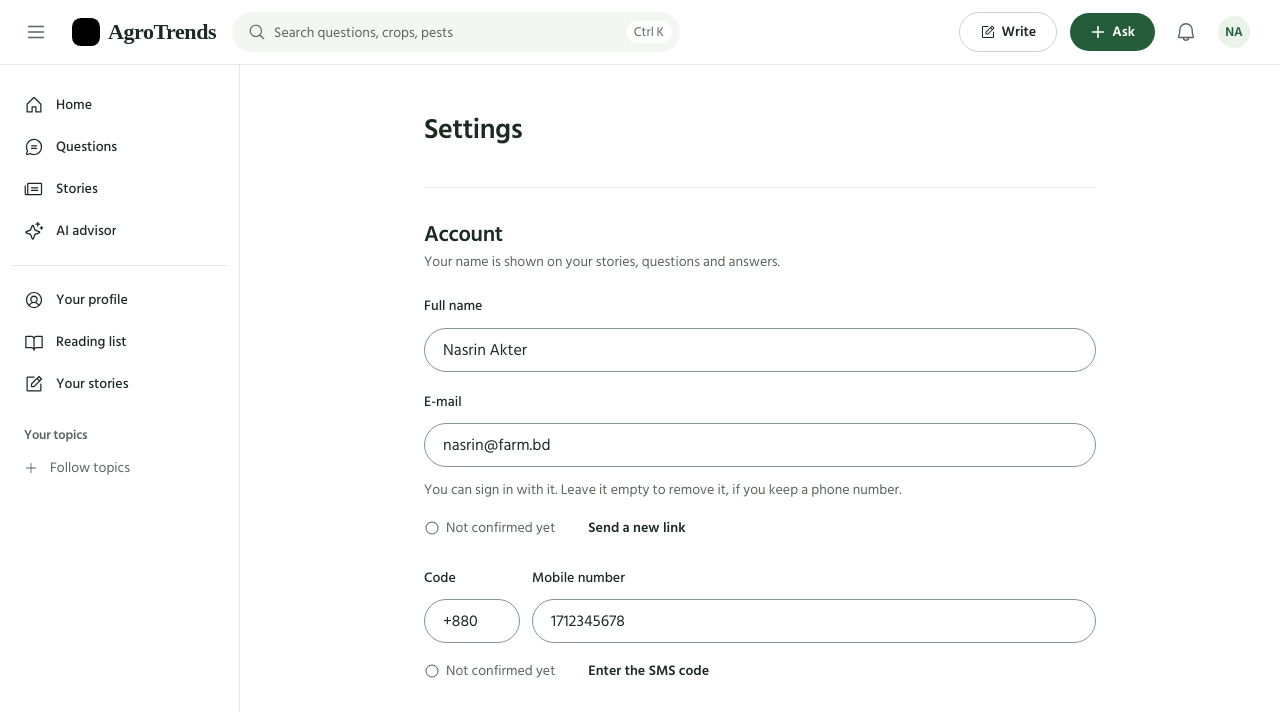
a taken e-mail shows the server message
Expected: the heading "Settings" is shown, 424,107 -> 522,152
Replace the text in the field labelled "E-mail" with "karim@farm.bd": (760, 445) 424,423 -> 1096,467
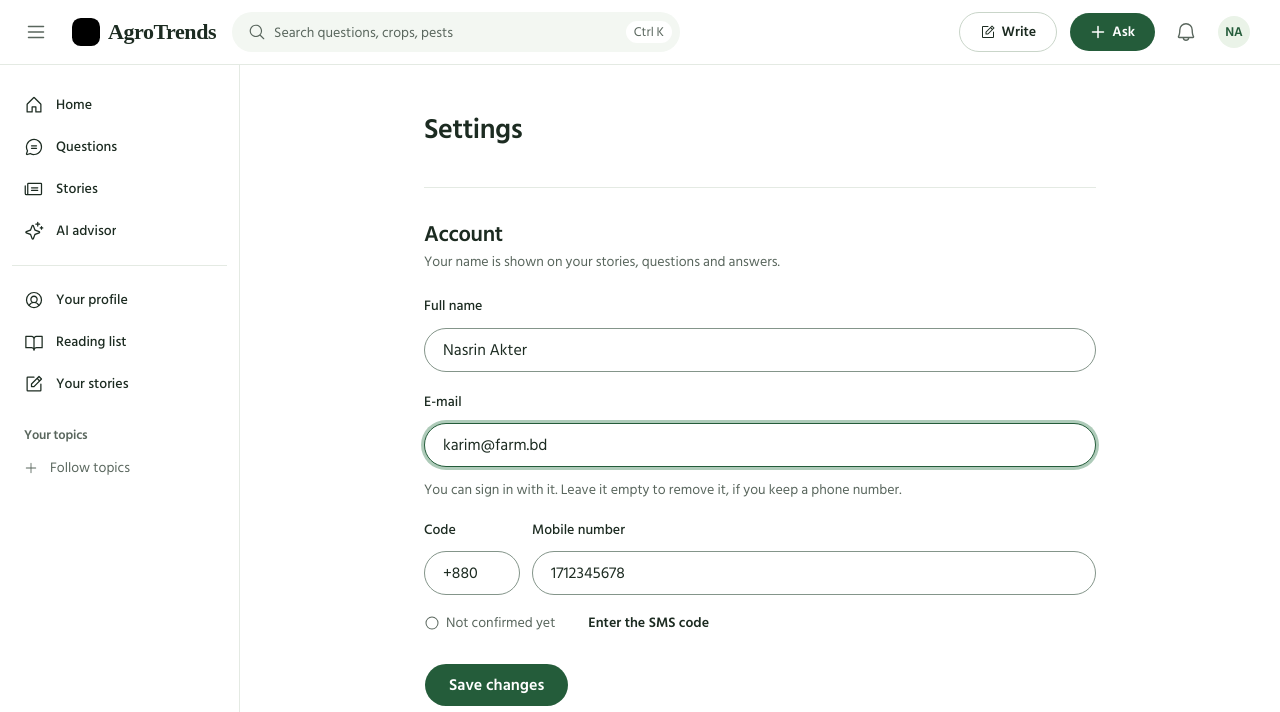
Click the button "Save changes": (497, 685) 424,663 -> 569,707
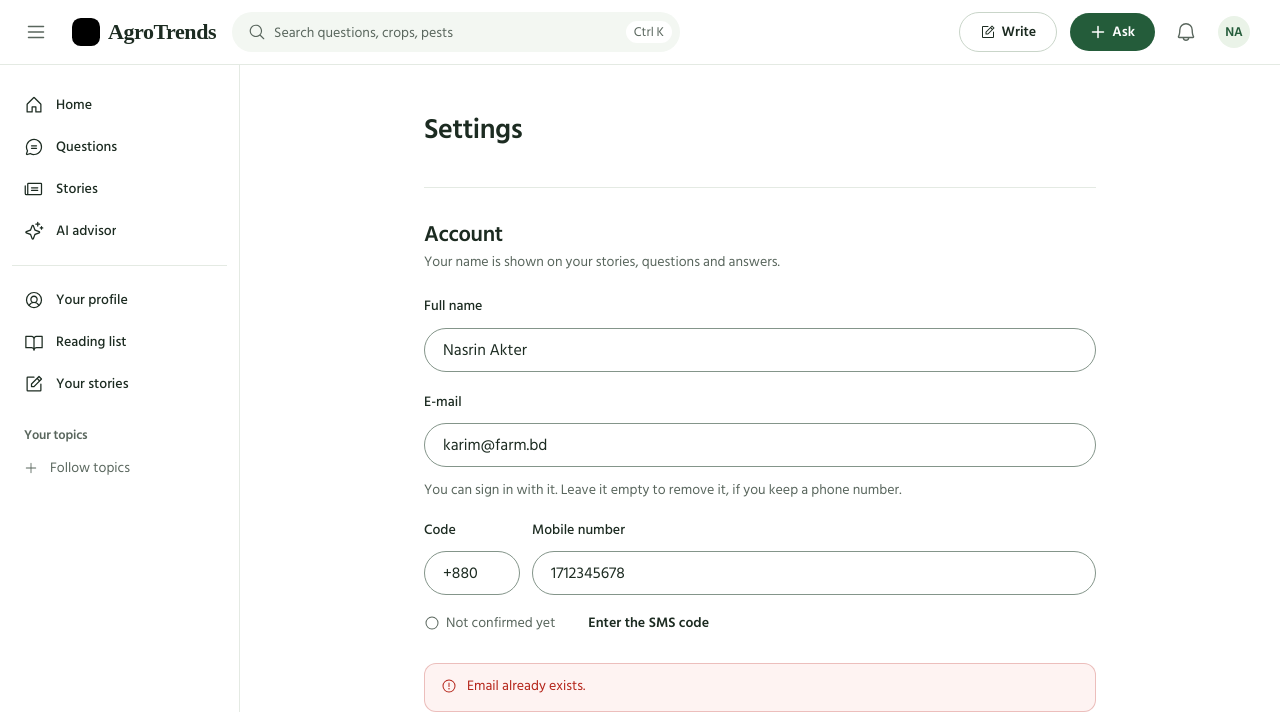
Expected: the message reads "Email already exists.", 467,674 -> 585,697
